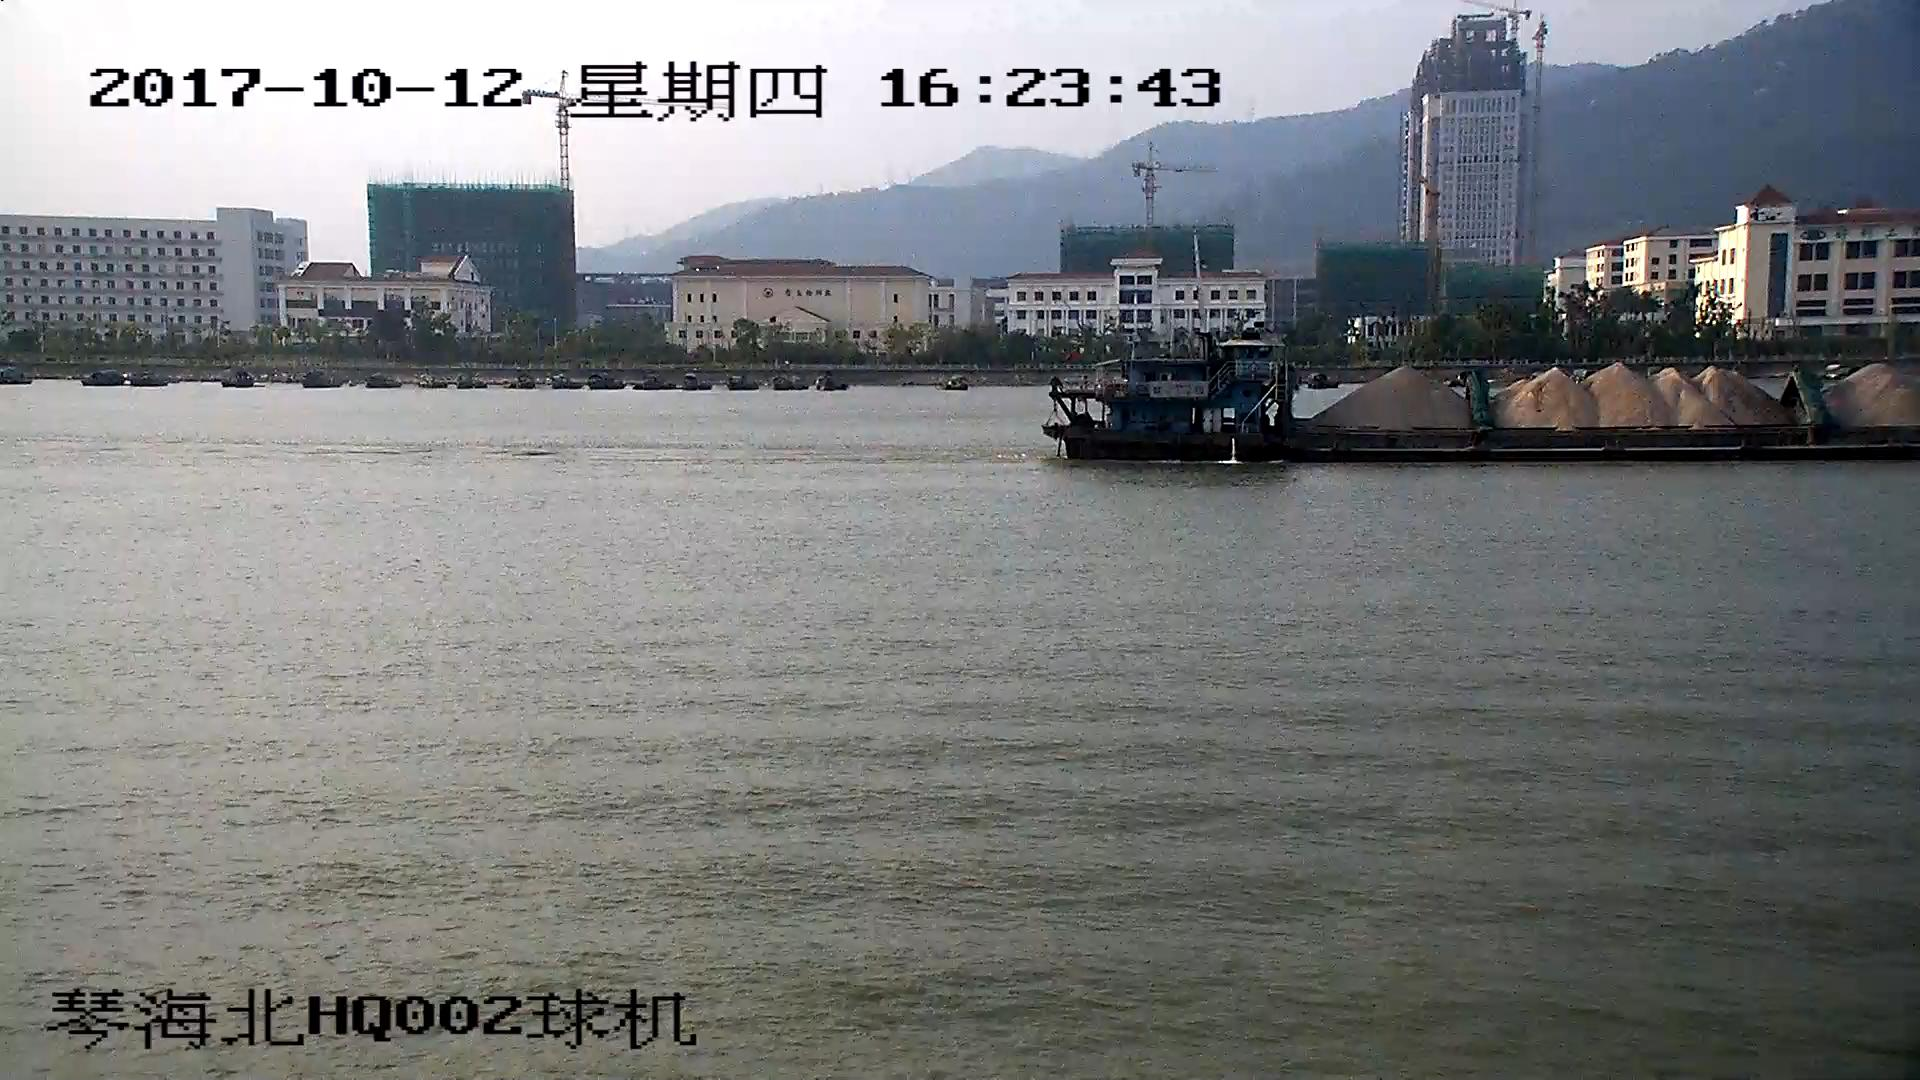ore carrier: (1052, 340, 1920, 460)
